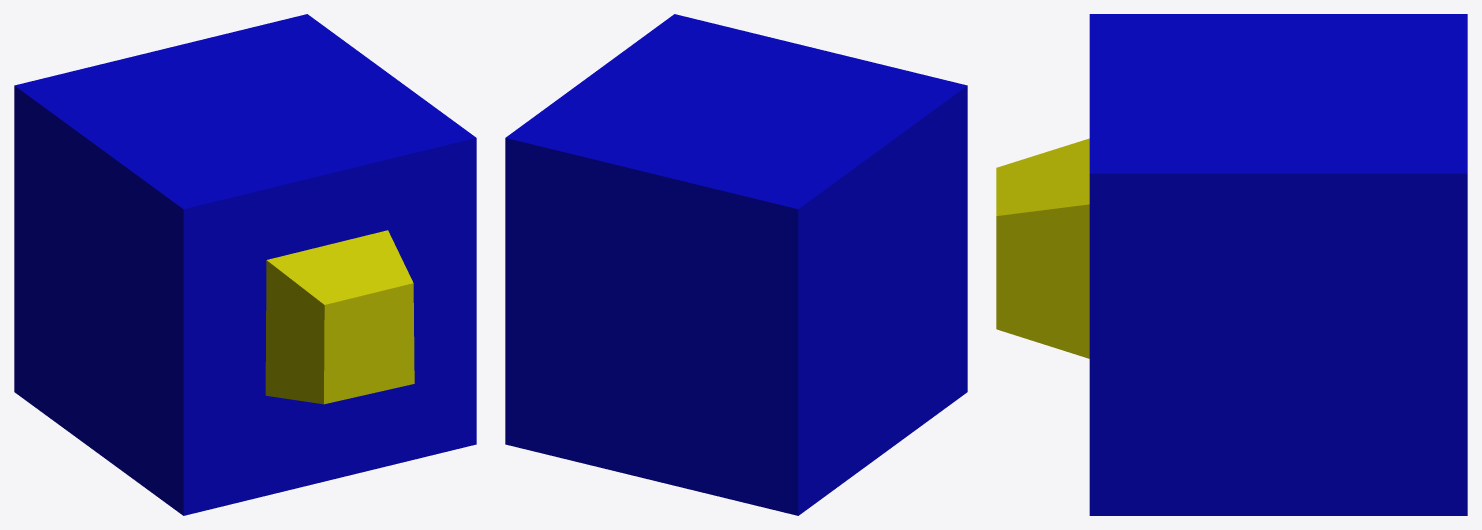
The model's file is 2boxes.dae.
3 renders of one model, left to right at view 1: azimuth 30°, elevation 25°; view 2: azimuth 150°, elevation 25°; view 3: azimuth 270°, elevation 25°, orthographic. The views are drawn at different scales.
Parts seen in each view (by area): view 1: pCube1; view 2: pCube1; view 3: pCube1.
Part boxes in pixels (x1,y1,x2,y2): pCube1: [14, 14, 476, 515]; pCube1: [505, 14, 967, 515]; pCube1: [996, 14, 1467, 515].
Size of the model in its own units: 1 by 1 by 1.25.
